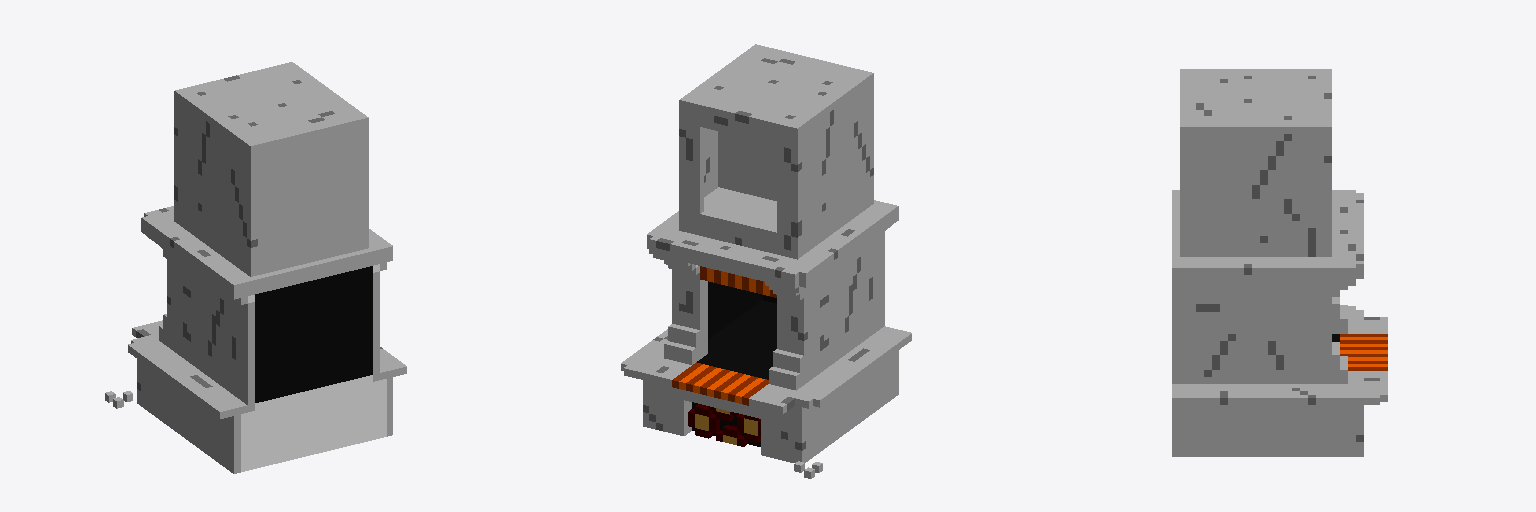
3 views of the same model, side by side, from view 1: azimuth 30°, elevation 25°; view 2: azimuth 150°, elevation 25°; view 3: azimuth 270°, elevation 25° (orthographic).
Parts seen in each view (by area): view 1: house_fireplace; view 2: house_fireplace; view 3: house_fireplace.
Part boxes in pixels (x1,y1,x2,y2): house_fireplace: (105,62,406,473); house_fireplace: (621,44,911,478); house_fireplace: (1172,69,1387,456).
Bounding box in the file's own units: 28 × 44 × 27.
Materials: 1 (1 with a texture image).